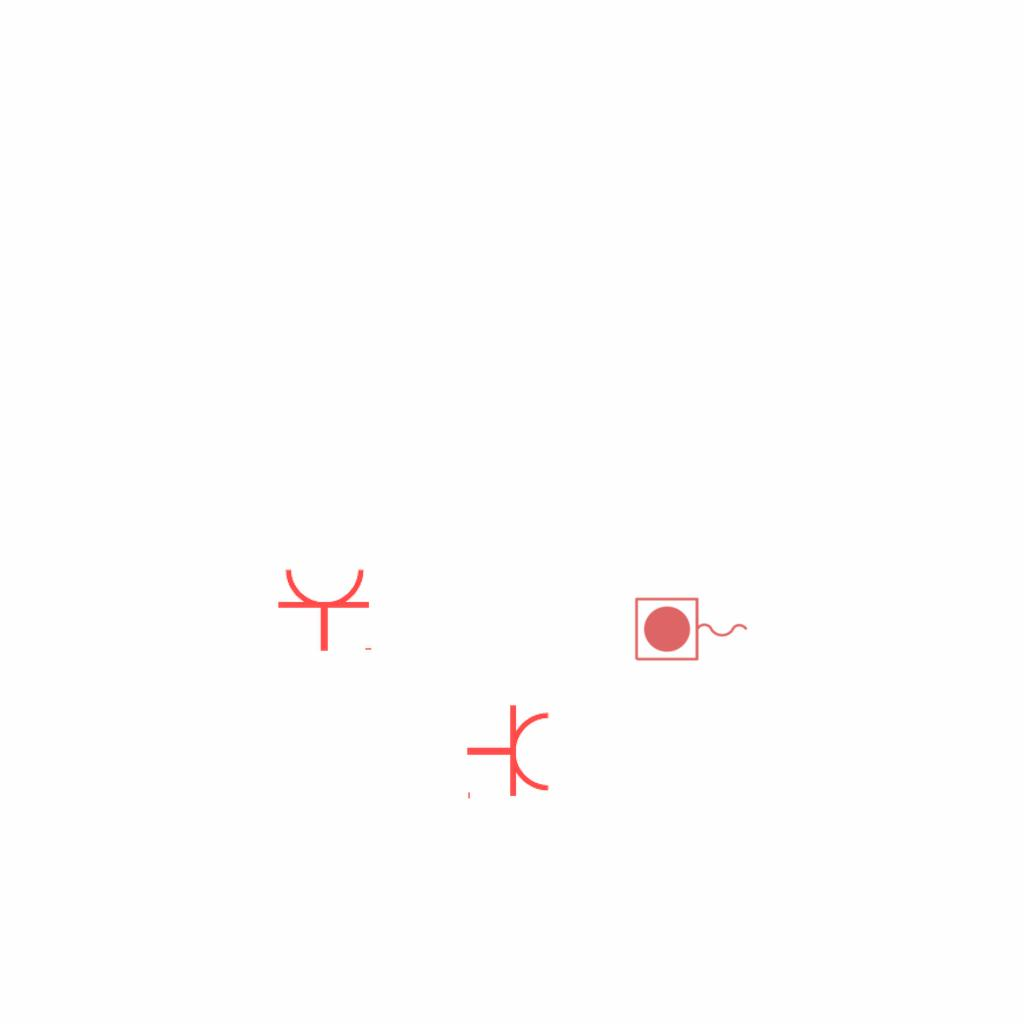Schukosteckdose_einfach: (276, 566, 376, 653), (465, 703, 552, 803)
Zugtaster: (631, 594, 753, 666)
